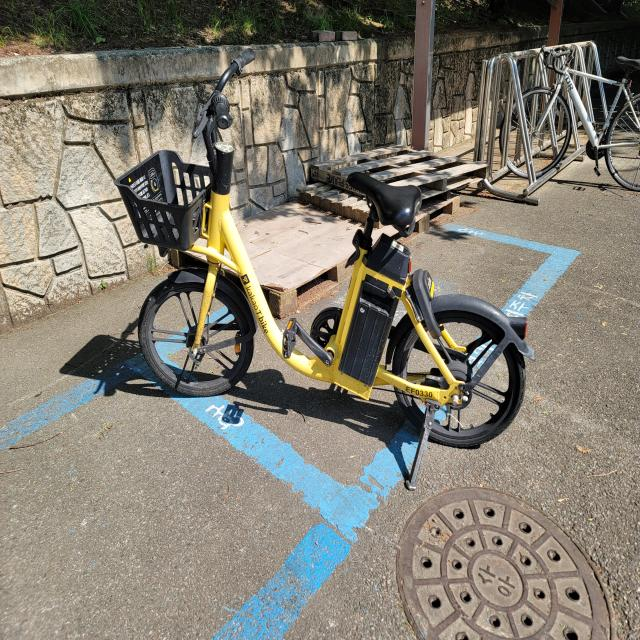bicycle: (114, 47, 535, 490), (484, 42, 640, 201)
